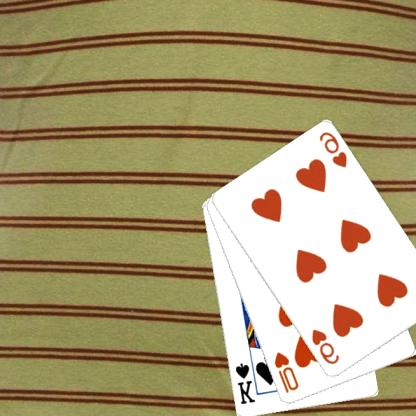10H: (273, 350, 302, 394)
6H: (318, 129, 351, 170), (310, 326, 343, 366)
KS: (234, 360, 258, 405)
